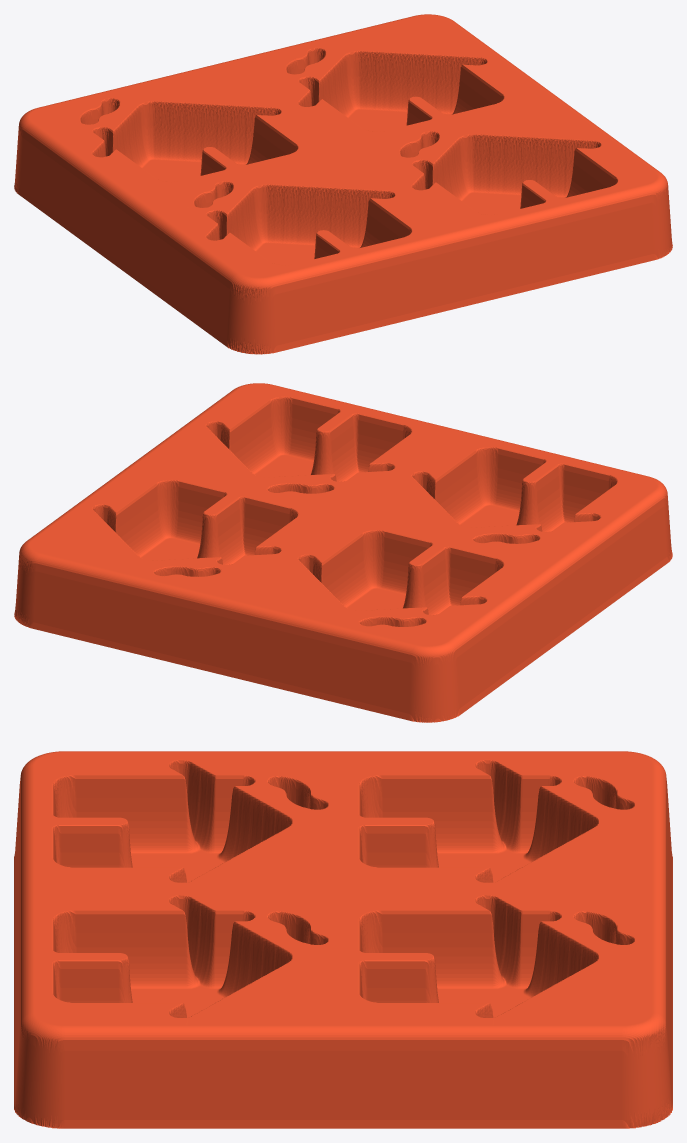
The model's file is mold.glb.
3 renders of one model, top to bottom at view 1: azimuth 30°, elevation 25°; view 2: azimuth 150°, elevation 25°; view 3: azimuth 270°, elevation 25°, orthographic. The views are drawn at different scales.
Parts seen in each view (by area): view 1: geometry_0; view 2: geometry_0; view 3: geometry_0.
Part boxes in pixels (bbox=[...]): geometry_0: bbox=[14, 14, 672, 354]; geometry_0: bbox=[14, 383, 672, 722]; geometry_0: bbox=[14, 751, 672, 1128].
Size of the model in its own units: 0.1218 by 0.0185 by 0.1169.
